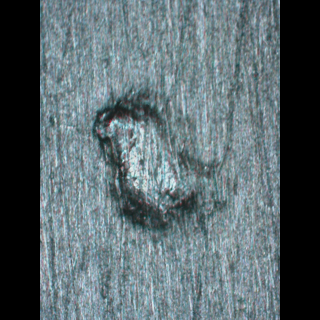d: (82, 84, 226, 238)
